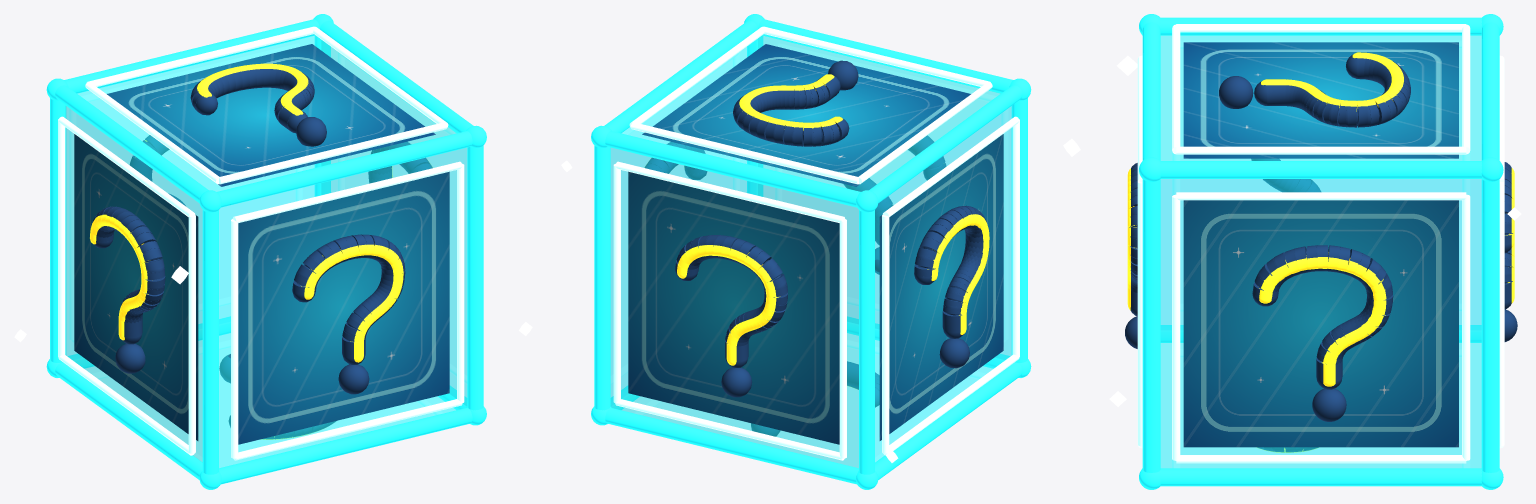
Rendered from question-mark-item-box.glb.
3 renders of one model, left to right at view 1: azimuth 30°, elevation 25°; view 2: azimuth 150°, elevation 25°; view 3: azimuth 270°, elevation 25°, orthographic. The views are drawn at different scales.
Parts seen in each view (by area): view 1: six_textured_blue_panels_2, rounded_cyan_edge_frame_3, translucent_cube_body_1, cyan_panel_rims_4, raised_question_mark_outlines_5, raised_golden_question_marks_6; view 2: six_textured_blue_panels_2, rounded_cyan_edge_frame_3, translucent_cube_body_1, cyan_panel_rims_4, raised_question_mark_outlines_5, raised_golden_question_marks_6; view 3: six_textured_blue_panels_2, rounded_cyan_edge_frame_3, translucent_cube_body_1, cyan_panel_rims_4, raised_question_mark_outlines_5, raised_golden_question_marks_6, small_floating_sparkles_7.
Boxes of the visible parts, x1,y1,x2,y2 form: six_textured_blue_panels_2: [74, 44, 449, 444]; rounded_cyan_edge_frame_3: [46, 14, 486, 489]; translucent_cube_body_1: [66, 35, 467, 467]; cyan_panel_rims_4: [58, 26, 466, 461]; raised_question_mark_outlines_5: [92, 69, 432, 438]; raised_golden_question_marks_6: [90, 63, 403, 439]; six_textured_blue_panels_2: [628, 44, 1003, 444]; rounded_cyan_edge_frame_3: [591, 14, 1031, 489]; translucent_cube_body_1: [610, 35, 1011, 467]; cyan_panel_rims_4: [611, 26, 1019, 461]; raised_question_mark_outlines_5: [645, 60, 986, 436]; raised_golden_question_marks_6: [677, 74, 989, 365]; six_textured_blue_panels_2: [1183, 42, 1458, 447]; rounded_cyan_edge_frame_3: [1139, 14, 1503, 489]; translucent_cube_body_1: [1160, 35, 1481, 468]; cyan_panel_rims_4: [1137, 24, 1504, 467]; raised_question_mark_outlines_5: [1125, 54, 1517, 451]; raised_golden_question_marks_6: [1127, 52, 1514, 452]; small_floating_sparkles_7: [1109, 55, 1521, 406].
Size of the model in its own units: 2.79 by 2.4 by 2.52.
7 materials, 1 textured.
